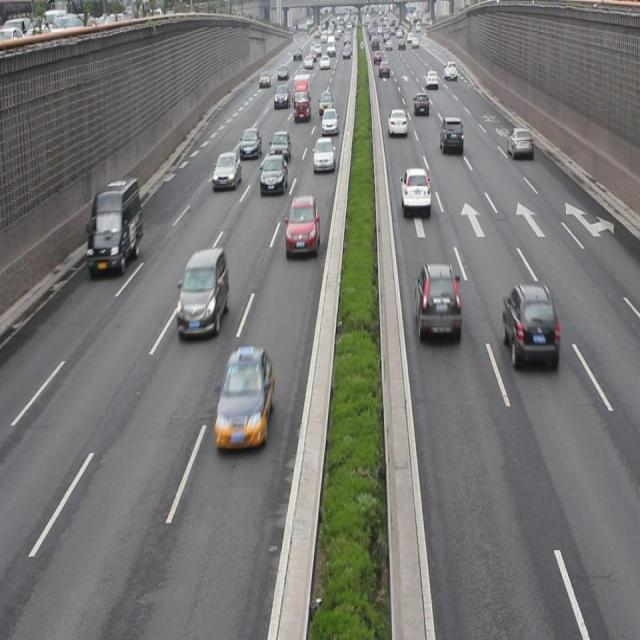car: (214, 346, 274, 445), (502, 282, 558, 367), (414, 259, 460, 338), (286, 194, 320, 256), (400, 167, 431, 213), (212, 150, 241, 190), (260, 152, 287, 193), (505, 126, 534, 162), (438, 115, 462, 156), (312, 135, 335, 172), (270, 128, 291, 160), (240, 128, 260, 160), (386, 106, 406, 137), (320, 108, 338, 135), (414, 90, 429, 114)
truck: (89, 176, 142, 273), (176, 248, 229, 338)
